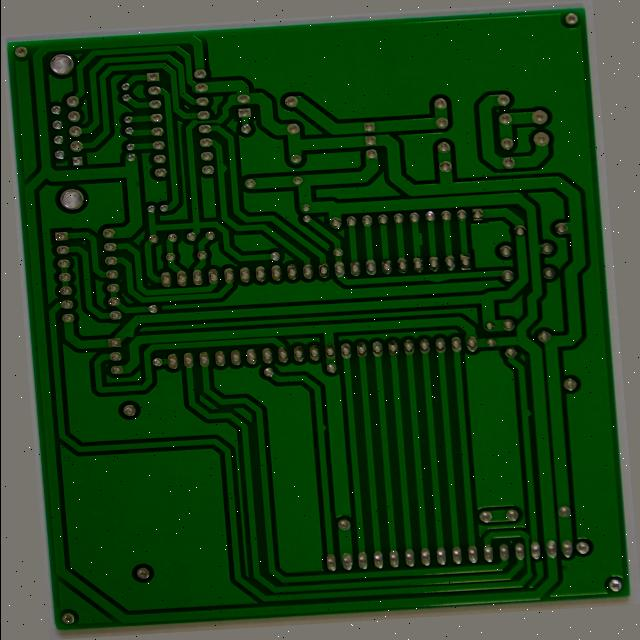spur: (435, 279, 464, 290), (428, 230, 441, 252), (306, 428, 322, 443), (530, 425, 543, 441), (224, 146, 236, 161)
